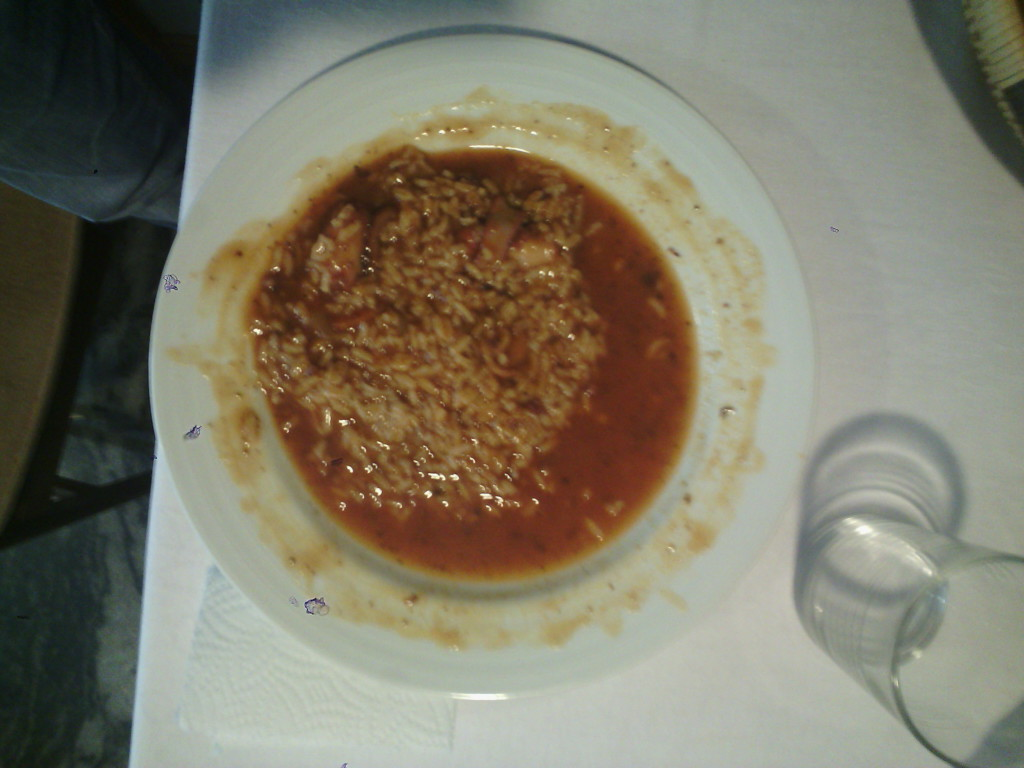61-80: (154, 37, 819, 696)
